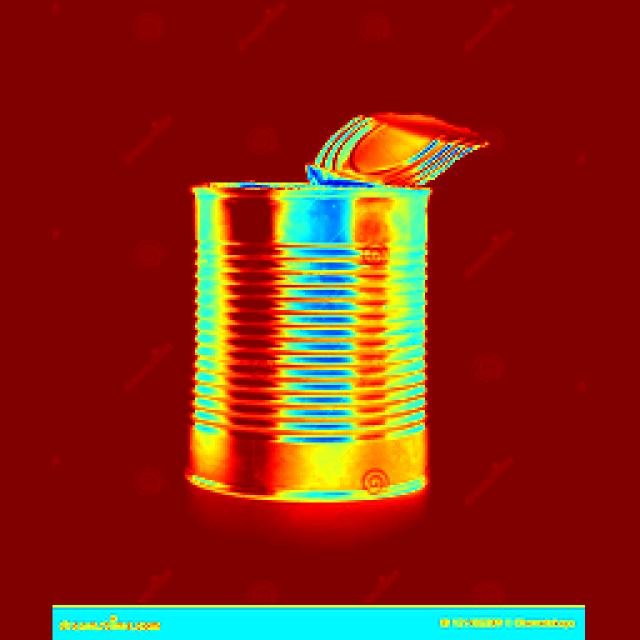Aluminium Food Cans: (173, 88, 481, 580)
